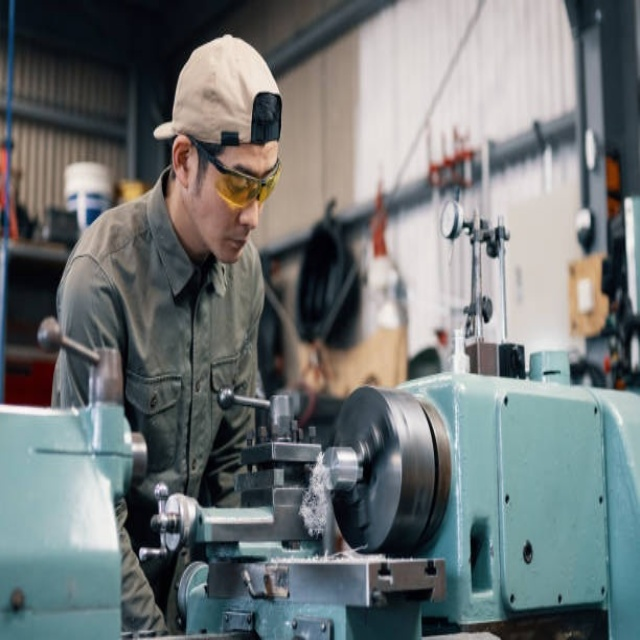Gafas: (186, 136, 283, 210)
Sin_mascara: (210, 224, 253, 265)
